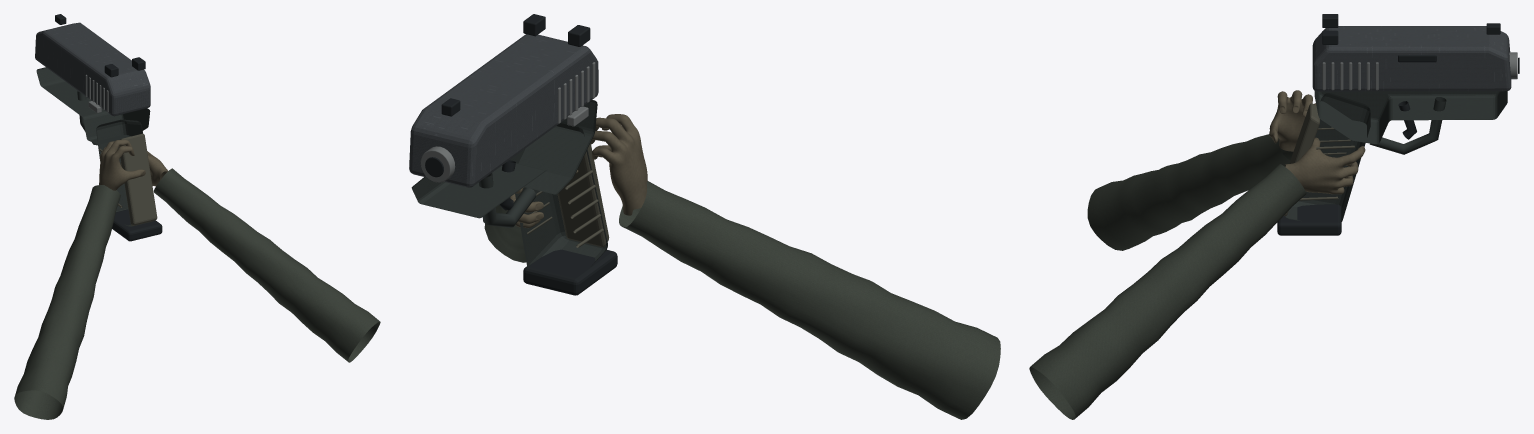
File: sidearm.glb
The picture shows the model from 3 angles, left to right: view 1: azimuth 30°, elevation 25°; view 2: azimuth 150°, elevation 25°; view 3: azimuth 270°, elevation 25°; orthographic projection. The views are drawn at different scales.
Visible parts, largest first — view 1: Sleeve R, Sleeve L, Bolt.001Surface, Gun.001Surface, Anatomical glove L, Magazine.001Surface, Anatomical glove R; view 2: Sleeve L, Bolt.001Surface, Gun.001Surface, Anatomical glove L, Magazine.001Surface, Sleeve R; view 3: Sleeve R, Bolt.001Surface, Sleeve L, Gun.001Surface, Anatomical glove R, Magazine.001Surface, Anatomical glove L.
Boxes of the visible parts, <box> form: Sleeve R: <box>153,168,380,362</box>; Sleeve L: <box>14,185,120,419</box>; Bolt.001Surface: <box>35,14,150,116</box>; Gun.001Surface: <box>36,67,157,226</box>; Anatomical glove L: <box>99,139,145,190</box>; Magazine.001Surface: <box>112,209,162,241</box>; Anatomical glove R: <box>120,151,167,186</box>; Sleeve L: <box>619,181,1000,419</box>; Bolt.001Surface: <box>409,14,598,187</box>; Gun.001Surface: <box>411,100,609,267</box>; Anatomical glove L: <box>590,114,647,215</box>; Magazine.001Surface: <box>523,249,617,295</box>; Sleeve R: <box>484,205,526,262</box>; Sleeve R: <box>1029,164,1306,419</box>; Bolt.001Surface: <box>1312,14,1511,91</box>; Sleeve L: <box>1087,134,1293,250</box>; Gun.001Surface: <box>1284,52,1519,222</box>; Anatomical glove R: <box>1285,137,1365,194</box>; Magazine.001Surface: <box>1277,204,1341,235</box>; Anatomical glove L: <box>1269,90,1316,151</box>.
Bounding box in the file's own units: 0.94 × 0.6876 × 0.94.
7 materials, 4 textured.
